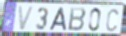0: (88, 7, 101, 32)
3: (35, 7, 49, 31)
A: (48, 7, 68, 32)
B: (67, 7, 87, 33)
C: (105, 8, 120, 32)
V: (18, 5, 36, 32)
